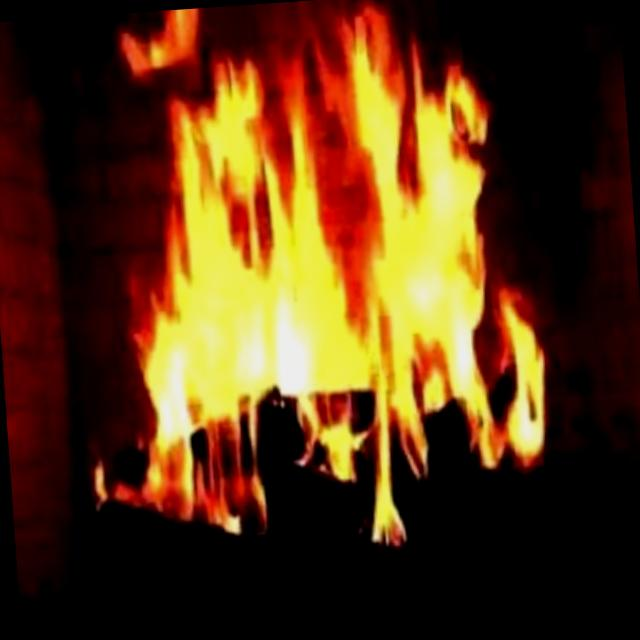fire: (66, 0, 575, 567)
